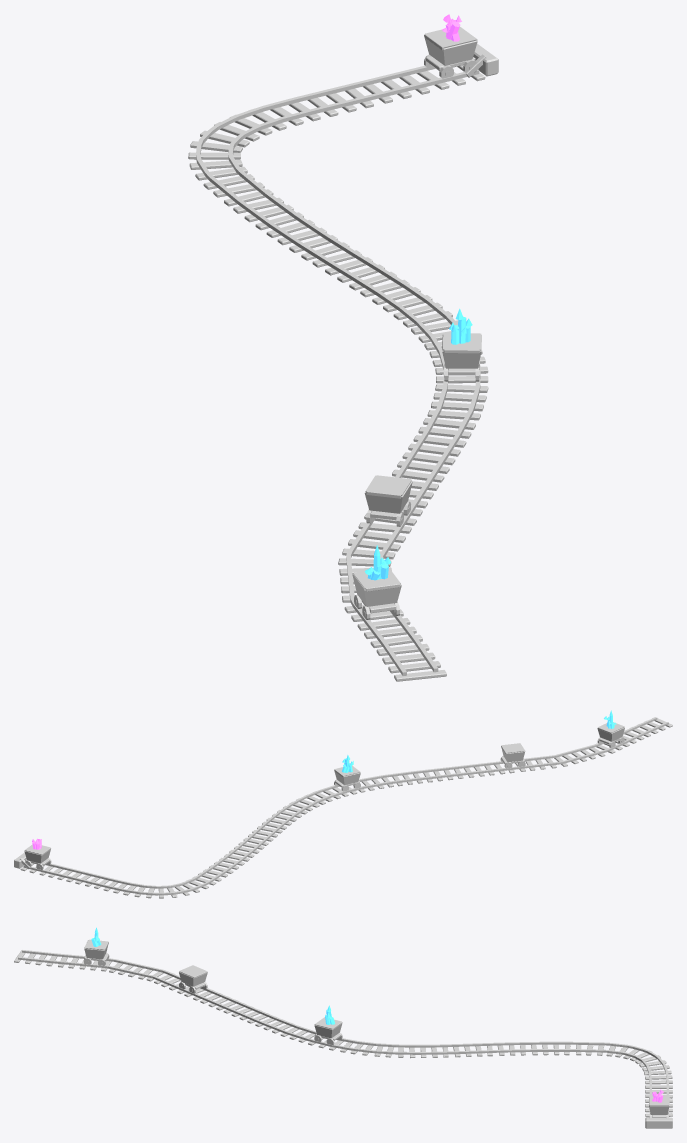
File: LOBBY_10_RAILS.fbx
3 renders of one model, top to bottom at view 1: azimuth 30°, elevation 25°; view 2: azimuth 150°, elevation 25°; view 3: azimuth 270°, elevation 25°, orthographic. The views are drawn at different scales.
Parts seen in each view (by area): view 1: RAIL_Main_Line__Wood_Dark, RAIL_Main_Line__Metal_Iron, RAIL_Mine_Carts__Metal_Iron, RAIL_Mine_Carts__Metal_Dark, RAIL_Mine_Carts__Wood_Plank, RAIL_Mine_Carts__Crystal_Blue; view 2: RAIL_Main_Line__Wood_Dark, RAIL_Main_Line__Metal_Iron, RAIL_Mine_Carts__Metal_Iron, RAIL_Mine_Carts__Metal_Dark, RAIL_Mine_Carts__Wood_Plank; view 3: RAIL_Main_Line__Wood_Dark, RAIL_Main_Line__Metal_Iron, RAIL_Mine_Carts__Metal_Iron, RAIL_Mine_Carts__Metal_Dark, RAIL_Mine_Carts__Wood_Plank.
Part boxes in pixels (x1,y1,x2,y2): RAIL_Main_Line__Wood_Dark: (188, 43, 498, 681); RAIL_Main_Line__Metal_Iron: (196, 54, 486, 675); RAIL_Mine_Carts__Metal_Iron: (352, 38, 481, 616); RAIL_Mine_Carts__Metal_Dark: (352, 26, 481, 619); RAIL_Mine_Carts__Wood_Plank: (353, 27, 481, 589); RAIL_Mine_Carts__Crystal_Blue: (364, 308, 472, 580); RAIL_Main_Line__Wood_Dark: (14, 717, 672, 898); RAIL_Main_Line__Metal_Iron: (20, 717, 668, 895); RAIL_Mine_Carts__Metal_Iron: (24, 727, 624, 868); RAIL_Mine_Carts__Metal_Dark: (24, 722, 624, 869); RAIL_Mine_Carts__Wood_Plank: (25, 723, 624, 854); RAIL_Main_Line__Wood_Dark: (14, 950, 672, 1128); RAIL_Main_Line__Metal_Iron: (18, 950, 668, 1118); RAIL_Mine_Carts__Metal_Iron: (84, 945, 669, 1114); RAIL_Mine_Carts__Metal_Dark: (84, 940, 669, 1117); RAIL_Mine_Carts__Wood_Plank: (85, 939, 668, 1105).
Size of the model in its own units: 64.64 by 6.36 by 101.
